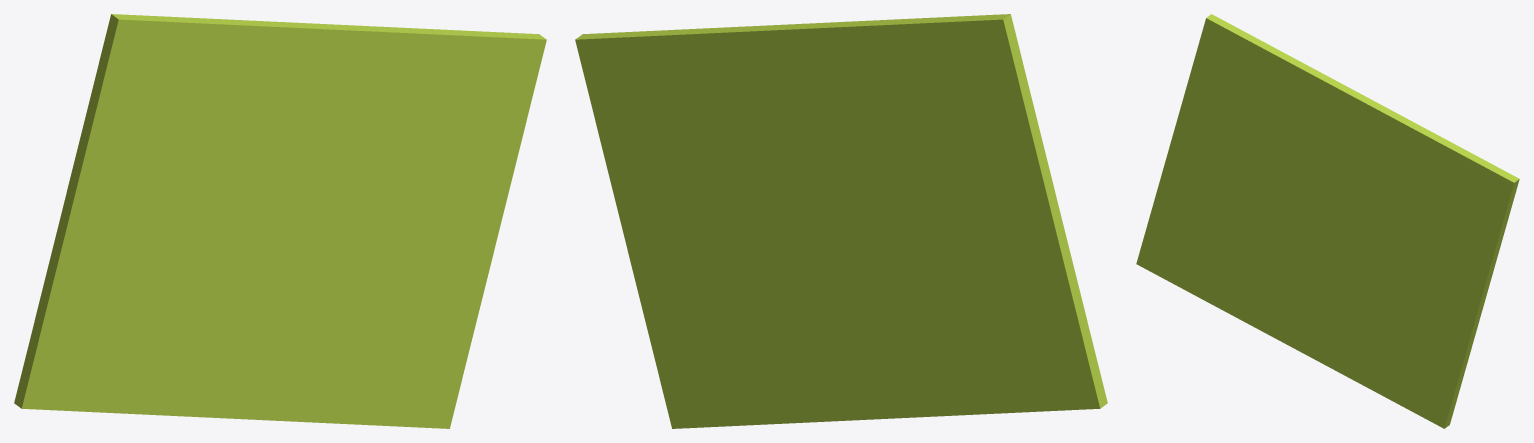
3 views of the same model, side by side, from view 1: azimuth 30°, elevation 25°; view 2: azimuth 150°, elevation 25°; view 3: azimuth 330°, elevation 25° (orthographic). The views are drawn at different scales.
Parts seen in each view (by area): view 1: osm-way27917482-F1; view 2: osm-way27917482-F1; view 3: osm-way27917482-F1.
Boxes of the visible parts, <box> form: osm-way27917482-F1: <box>14,14,546,428</box>; osm-way27917482-F1: <box>575,14,1107,428</box>; osm-way27917482-F1: <box>1136,14,1519,428</box>.
Size of the model in its own units: 5.98 by 5.34 by 0.15.
